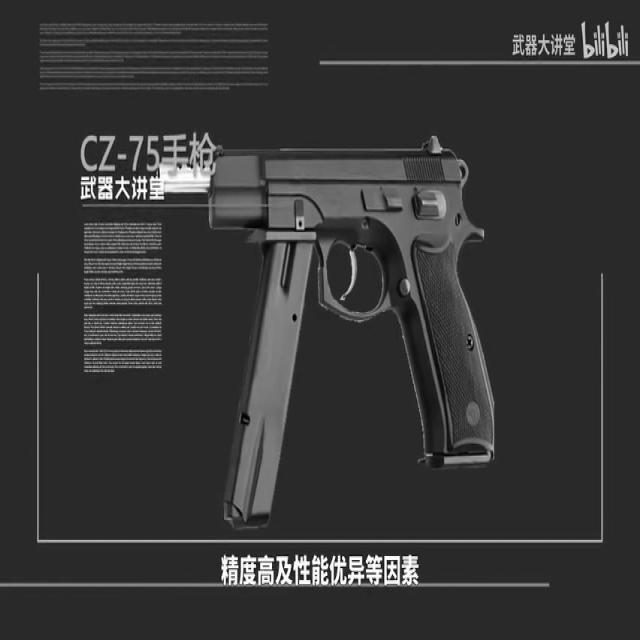Sub-machine-gun: (134, 0, 513, 640)
